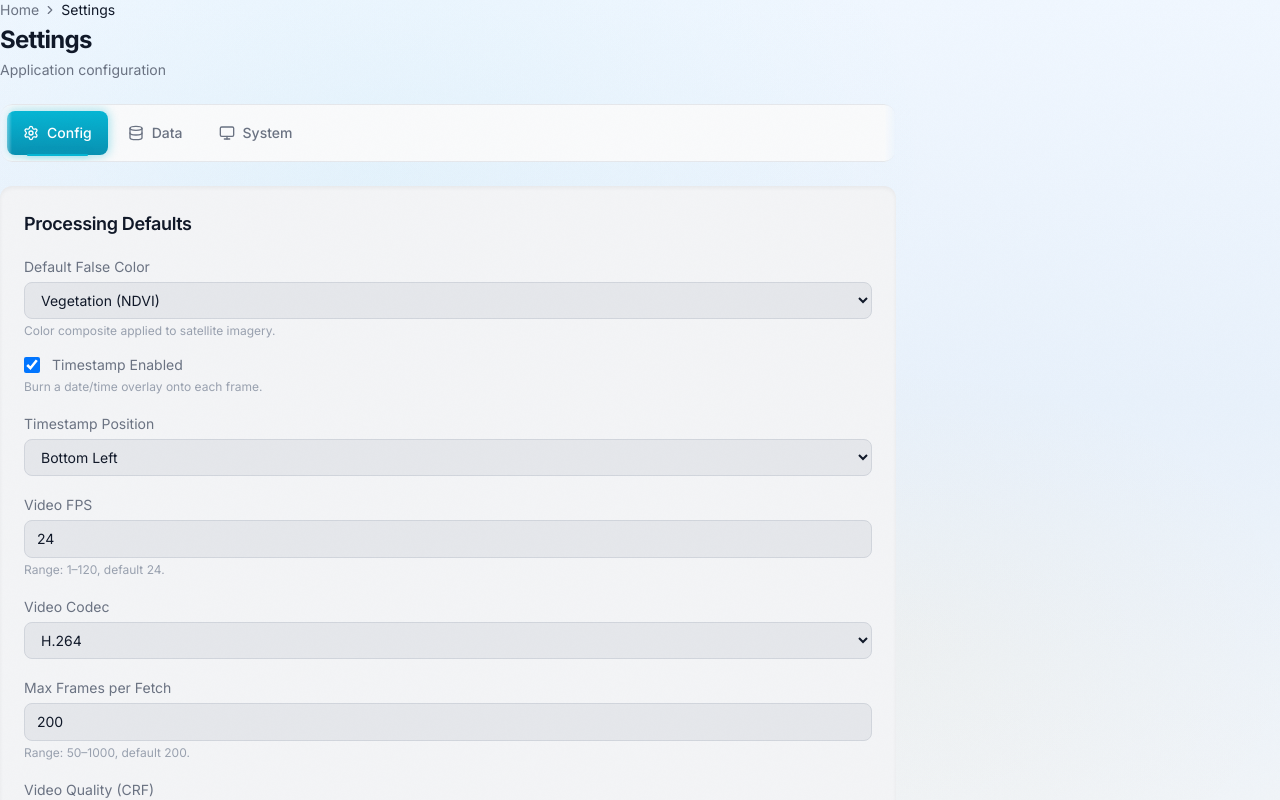
Test: Settings - storage section with data (System tab) › renders satellite breakdown bars
Step 1. Click the tab with aria-label "System tab" → (255, 133), box [202,111,308,155]
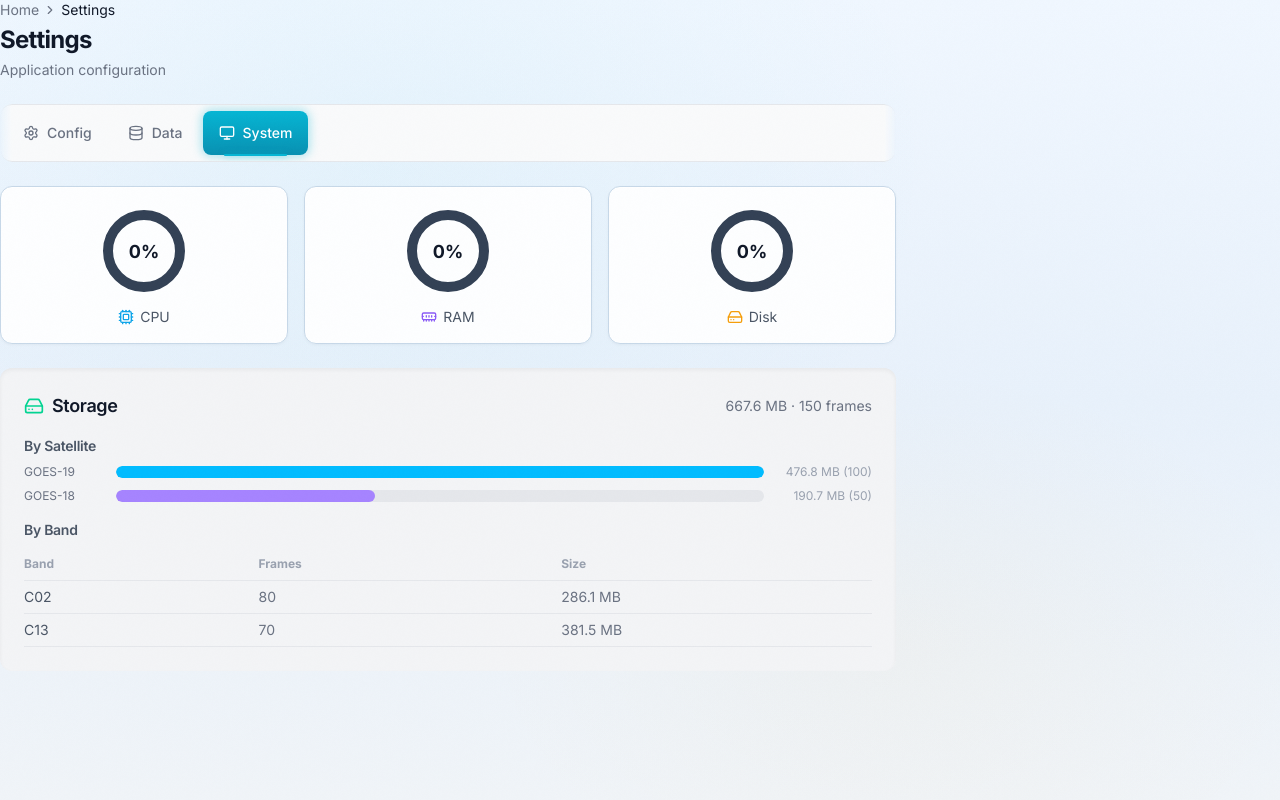
Now the text "GOES-19" is shown, box [24,464,75,479]
Now the text "GOES-18" is shown, box [24,488,75,503]
